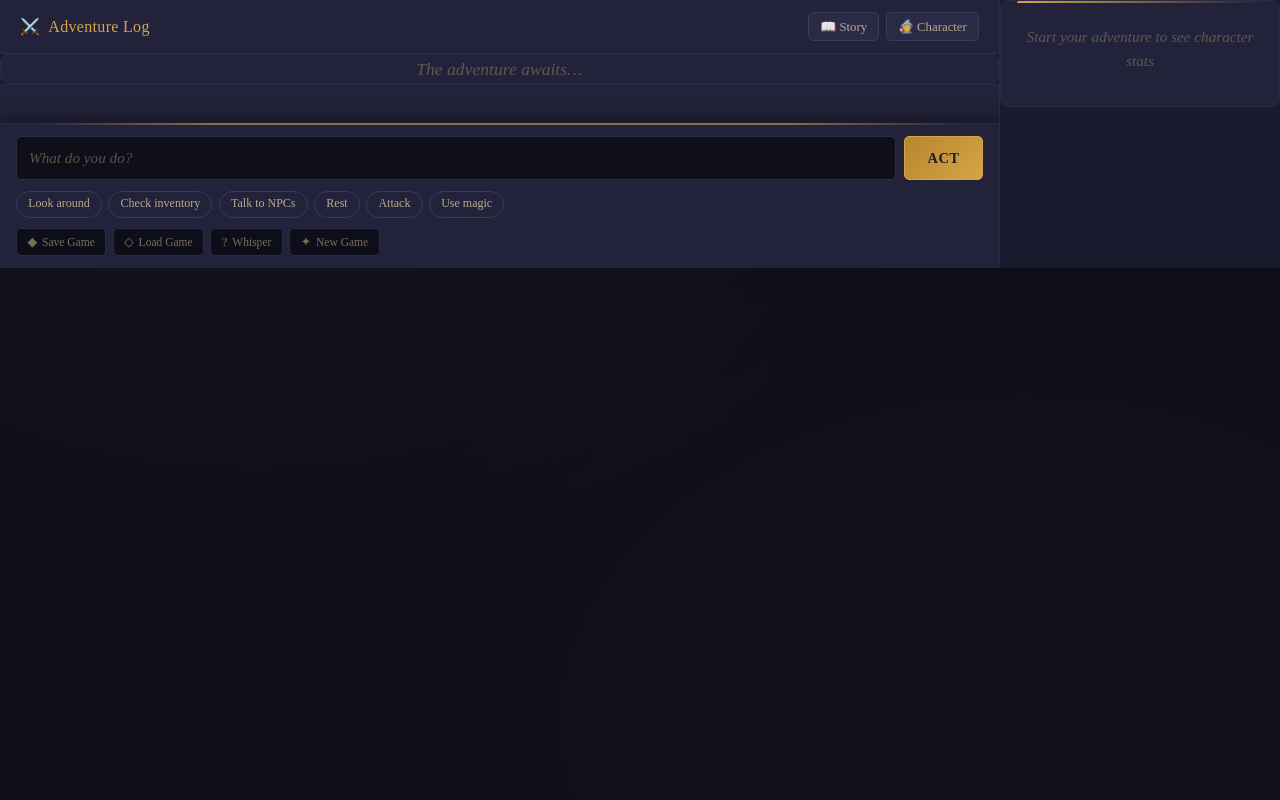
Test: GamePage — character details modal › opens Character Details modal when Character button is clicked
Click the button with aria-label "view character details".
click(932, 27)  # box [886,12,979,41]
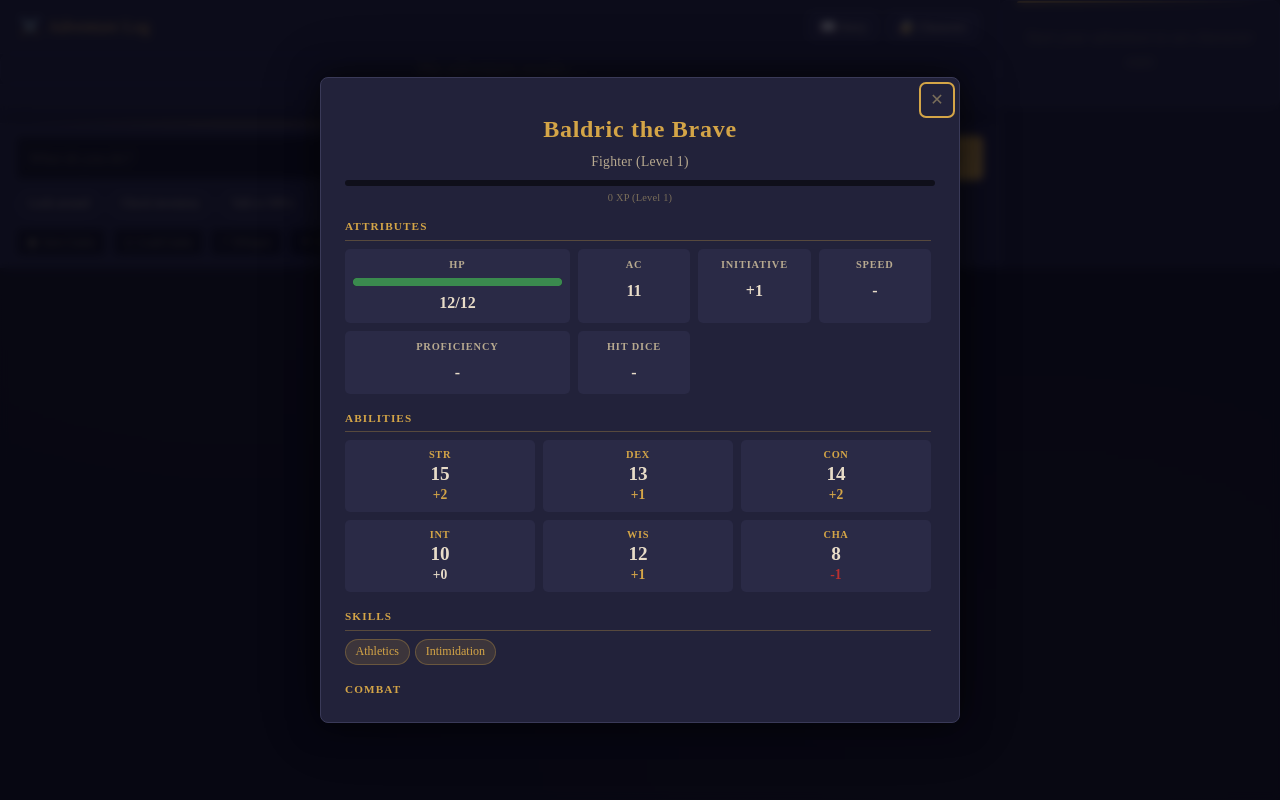
Expected: the dialog "Baldric the Brave" is shown
